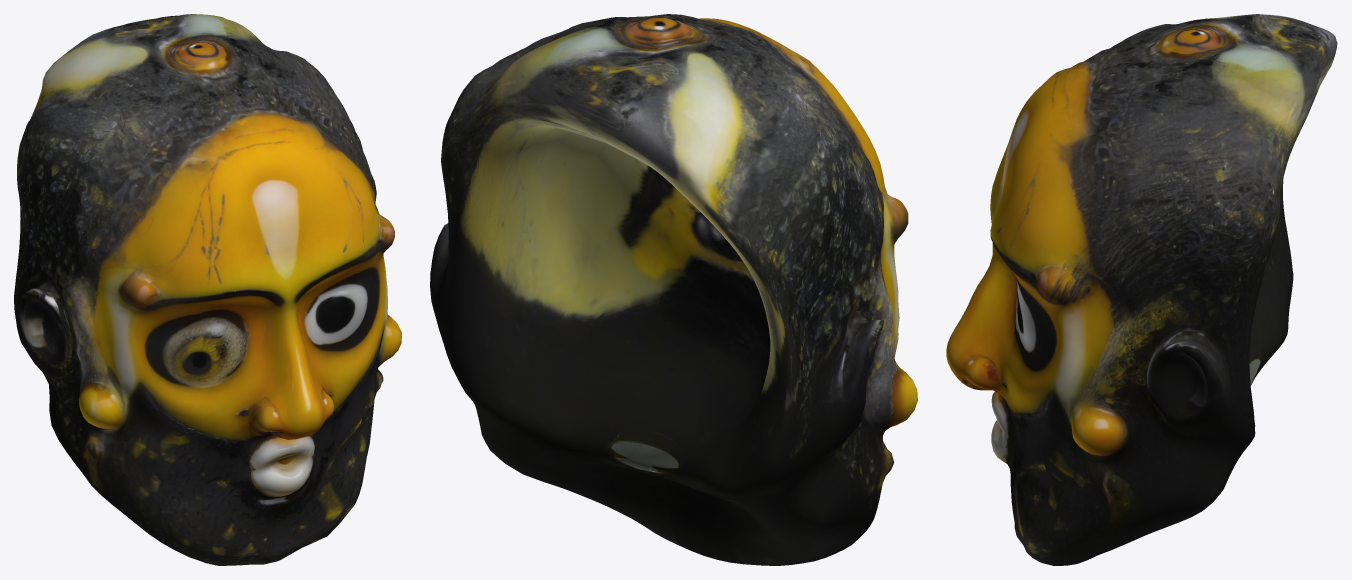
The model's file is Bearded_Glass_Mask_Ar_0519141751_texture.fbx.
3 views of the same model, side by side, from view 1: azimuth 30°, elevation 25°; view 2: azimuth 150°, elevation 25°; view 3: azimuth 270°, elevation 25° (orthographic). The views are drawn at different scales.
Visible parts, largest first — view 1: Mesh_0; view 2: Mesh_0; view 3: Mesh_0.
Boxes of the visible parts, bbox=[...] form: Mesh_0: bbox=[14, 14, 401, 565]; Mesh_0: bbox=[430, 14, 917, 565]; Mesh_0: bbox=[946, 14, 1337, 565].
Bounding box in the file's own units: 115 × 148 × 102.
1 material, 1 textured.
